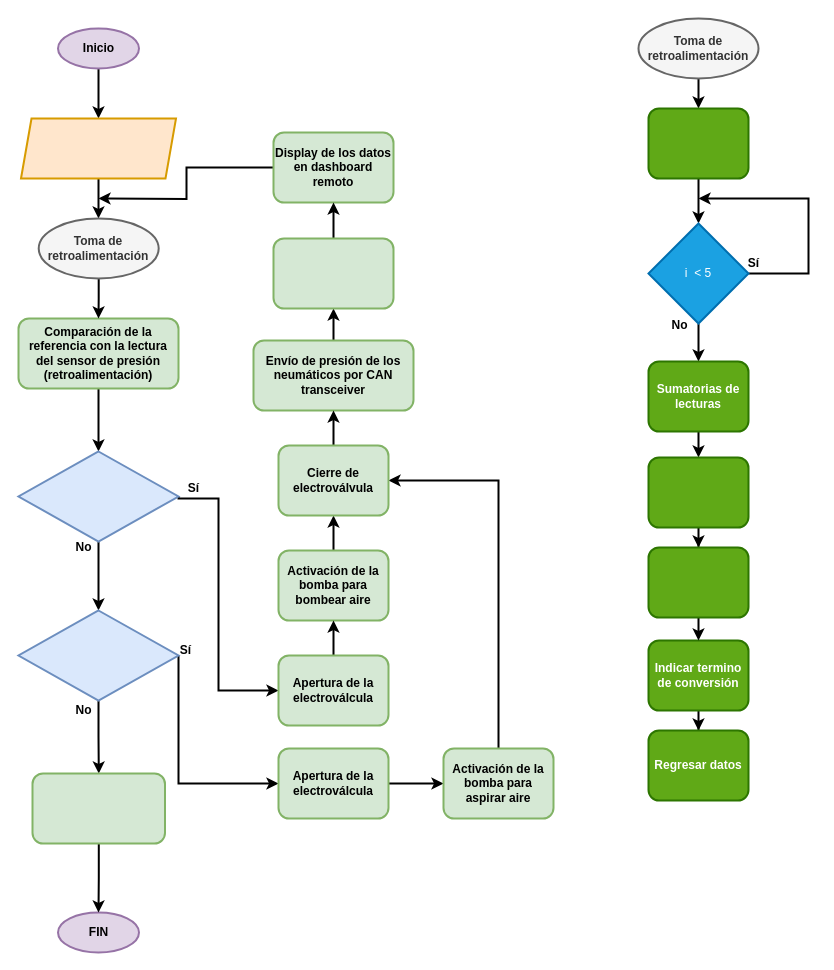
This 834x970 diagram has some shape labels left out. The box of each missing label's shape, as (x1, y1, x2, y2) in pixels:
Conversión ADC: (647, 546, 749, 618)
Desactivación de la bomba: (31, 772, 166, 844)
Display de datos en LCD: (272, 237, 394, 309)
Ingreso de la referencia por medio del GUI: (20, 117, 176, 179)
La referencia es mayor a la lectura: (17, 609, 179, 701)
La referencia es menor a la lectura: (17, 450, 179, 542)
Lectura de presión: (647, 107, 749, 179)
Promedio: (647, 456, 749, 528)
